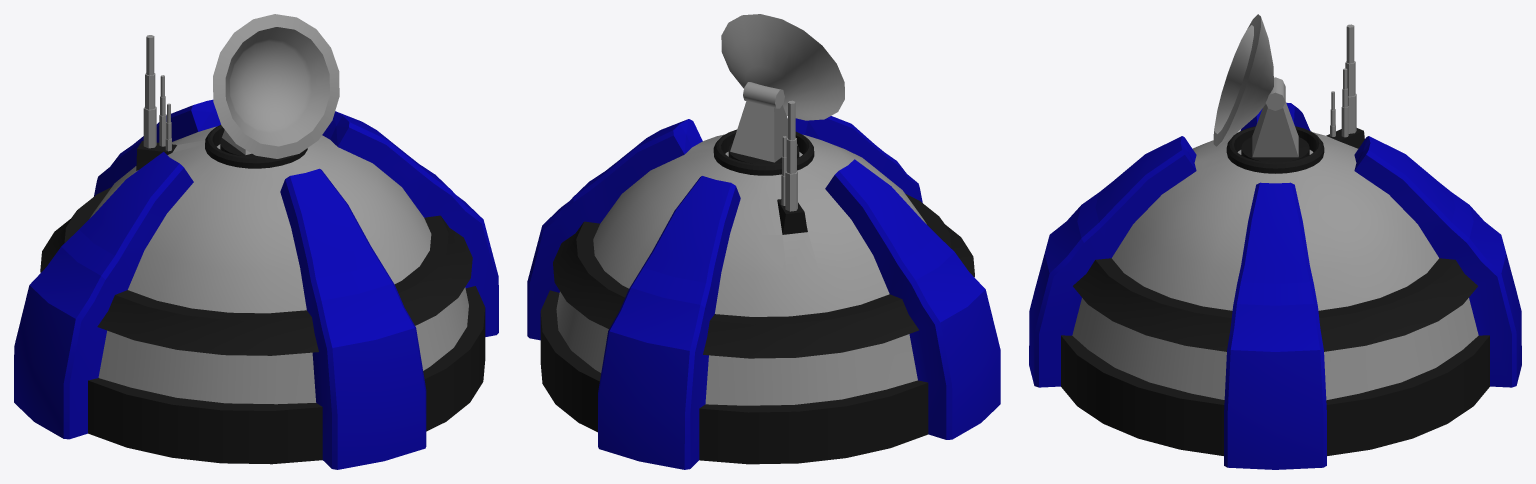
The model's file is HQ_Human.FBX.
The picture shows the model from 3 angles, left to right: view 1: azimuth 30°, elevation 25°; view 2: azimuth 150°, elevation 25°; view 3: azimuth 270°, elevation 25°; orthographic projection. The views are drawn at different scales.
Visible parts, largest first — view 1: HQ; view 2: HQ; view 3: HQ.
Part boxes in pixels (box(x1,y1,x2,y2)): HQ: box(14, 14, 498, 469); HQ: box(527, 14, 1000, 469); HQ: box(1029, 14, 1521, 469).
Size of the model in its own units: 90.25 by 69.14 by 89.85.
